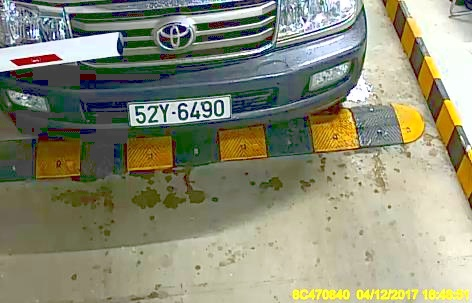plate: (127, 97, 232, 128)
